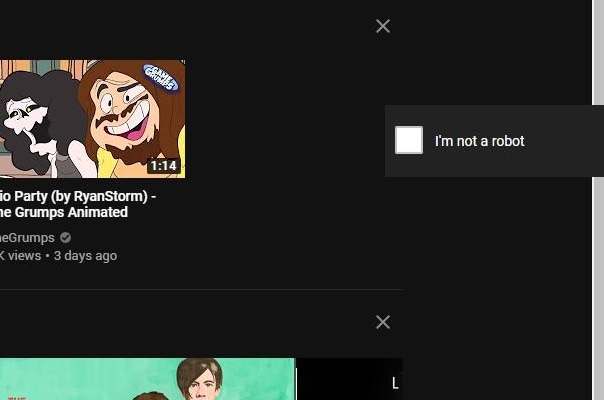captcha: (394, 125, 526, 155)
